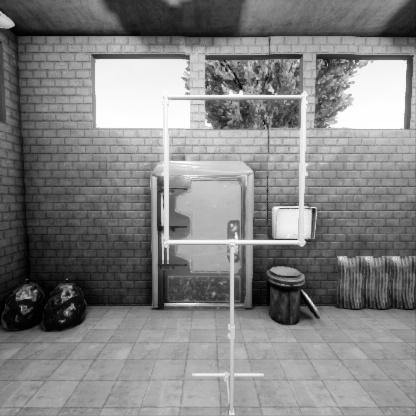gate: (161, 176, 316, 330)
